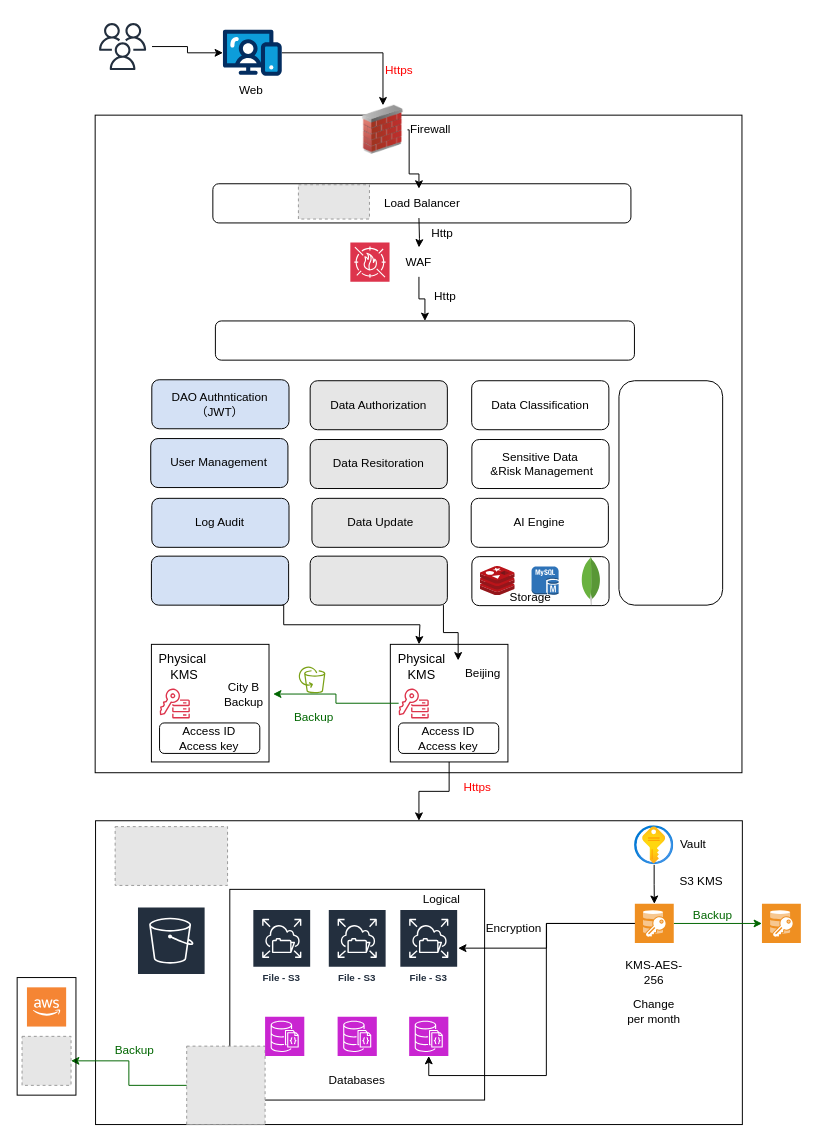
Image size: 818x1142. Some labels were removed from this diagram. Grey dashed boxes stand in for pictures. Each missing label, with the centre of its shape:
"Ali Cloud S3" belongs at (x=171, y=947).
"API gateweay" belongs at (x=424, y=340).
"Data Request" belongs at (x=378, y=580).
"Key Management" belongs at (x=219, y=580).
"Micro Servicce Management" belongs at (x=670, y=492).
"Users" belongs at (x=122, y=46).
